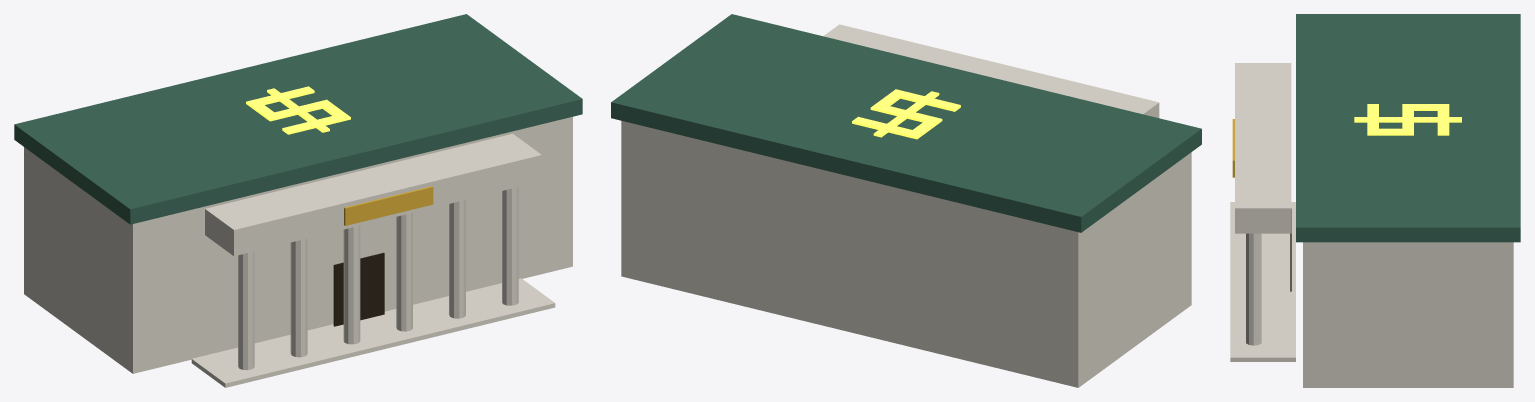
File: bank.glb
3 views of the same model, side by side, from view 1: azimuth 30°, elevation 25°; view 2: azimuth 150°, elevation 25°; view 3: azimuth 270°, elevation 25° (orthographic). The views are drawn at different scales.
Visible parts, largest first — view 1: bank; view 2: bank; view 3: bank.
Boxes of the visible parts, x1,y1,x2,y2 form: bank: (14,14,582,387); bank: (611,14,1201,387); bank: (1230,14,1520,387).
Size of the model in its own units: 21.6 by 7.8 by 12.4.
